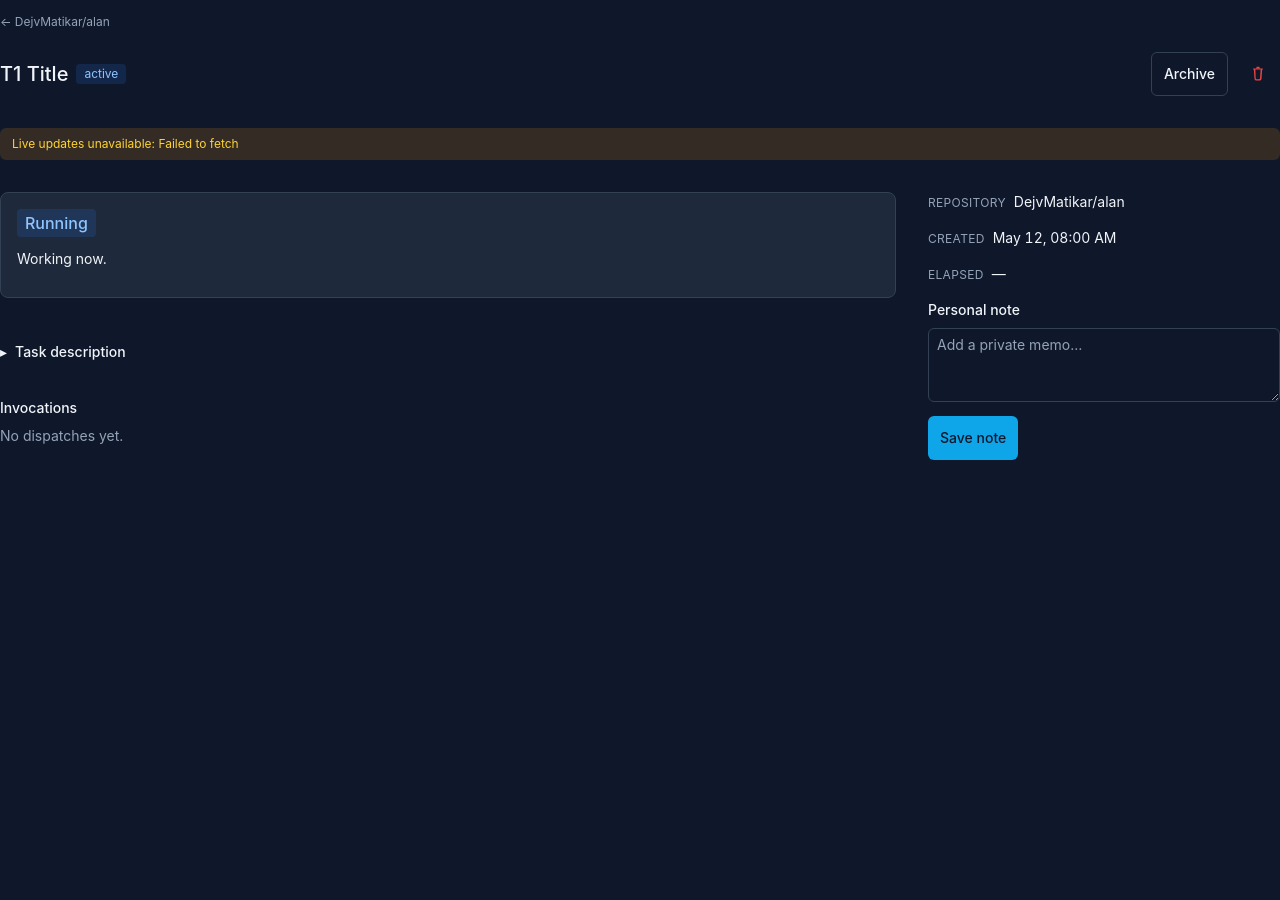
Workspace busy-state sites onto the shared action hook › keeps a real disabled attribute on the delete-workspace confirm button while pending, loses it after a failed settle, and renders the absorbed banner with no da
Click the button named "Delete" at (1258,74), box [1236,52,1279,96]
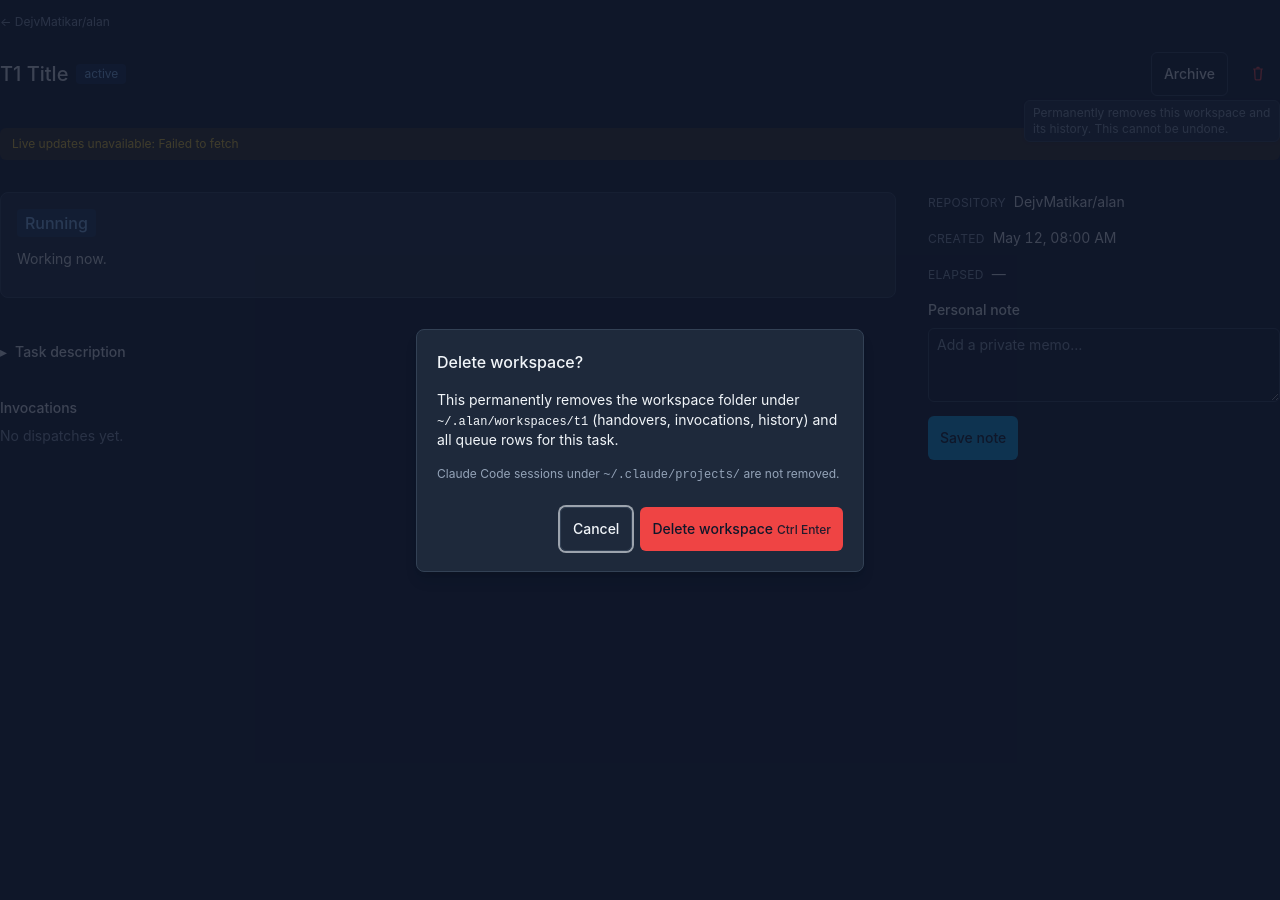
Click the button "Delete workspace Ctrl Enter" at (742,528), box [640,506,843,550]
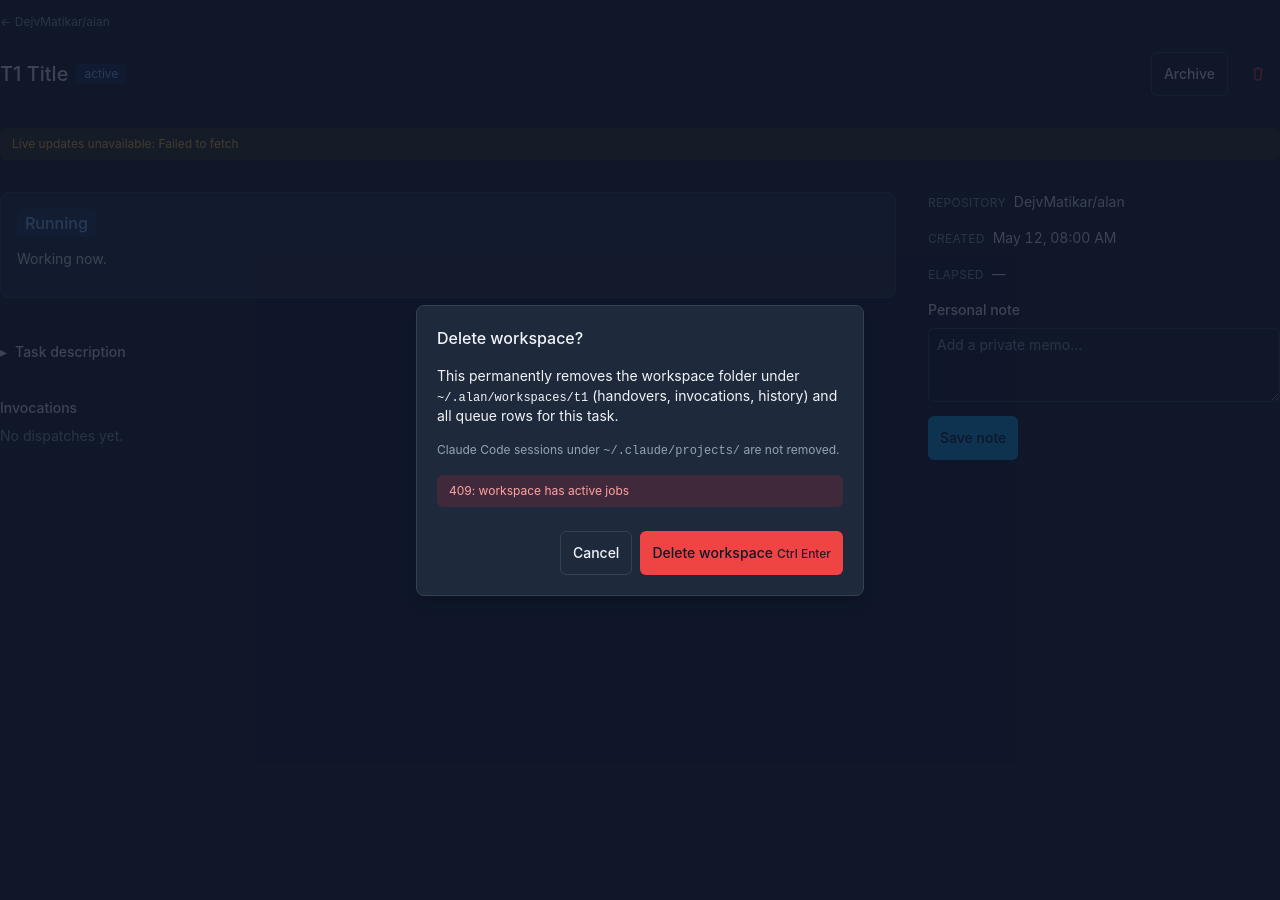
Now the message shows "workspace has active jobs", box [449,482,629,498]
